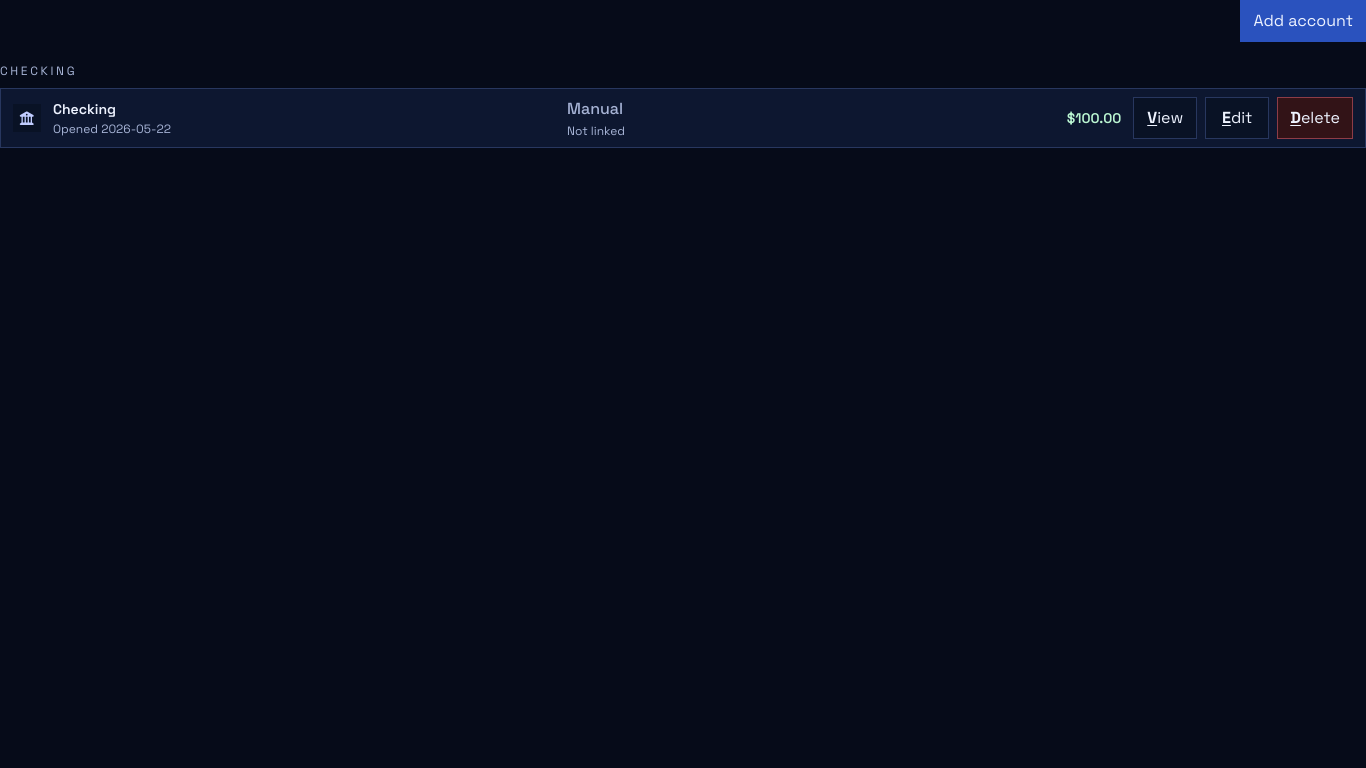
Test case: US2 account and transaction flows › optimistically closes and updates an existing account edit
Click the button named "Edit" at (1237,118), box [1205, 97, 1269, 139]
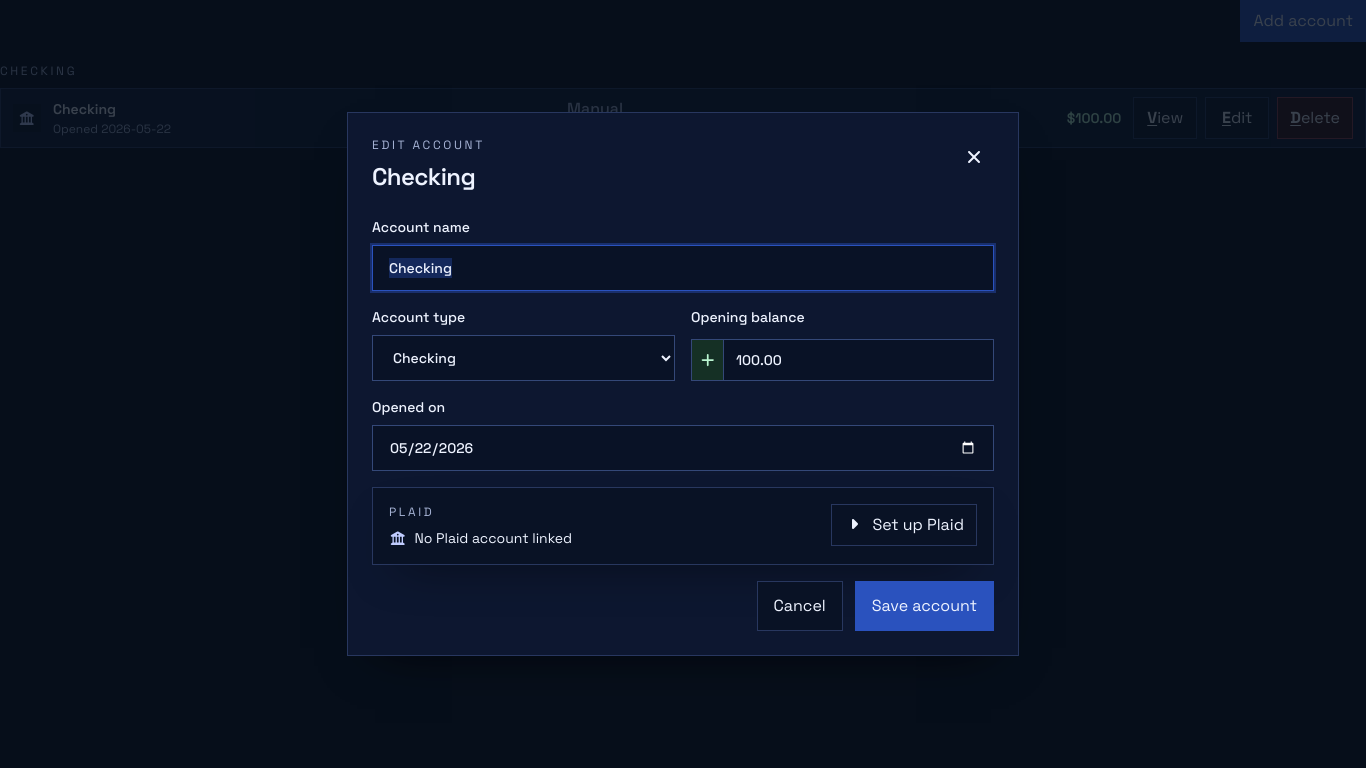
Replace the text in the field labelled "Account name" with "Everyday" at (683,268), box [372, 245, 994, 291]
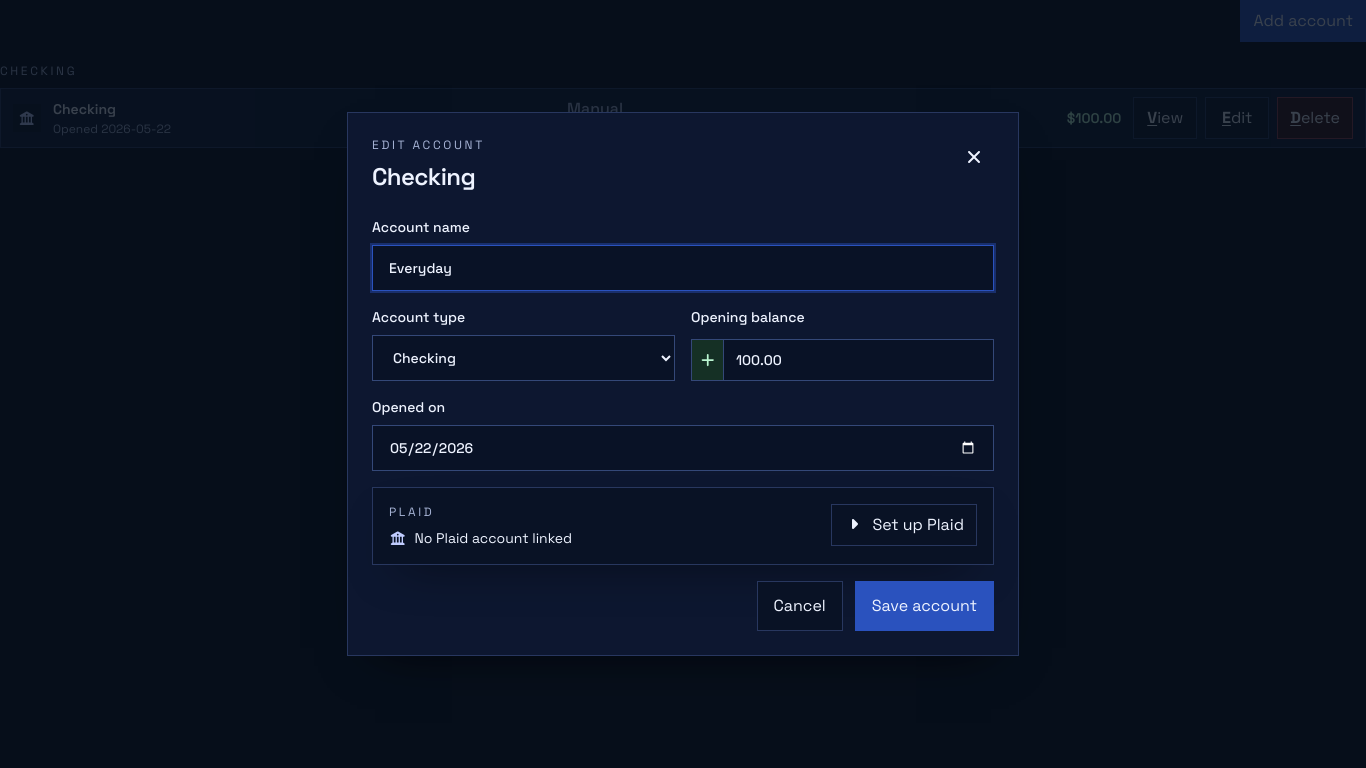
Click the button "Save account" at (924,606), box [855, 581, 994, 631]
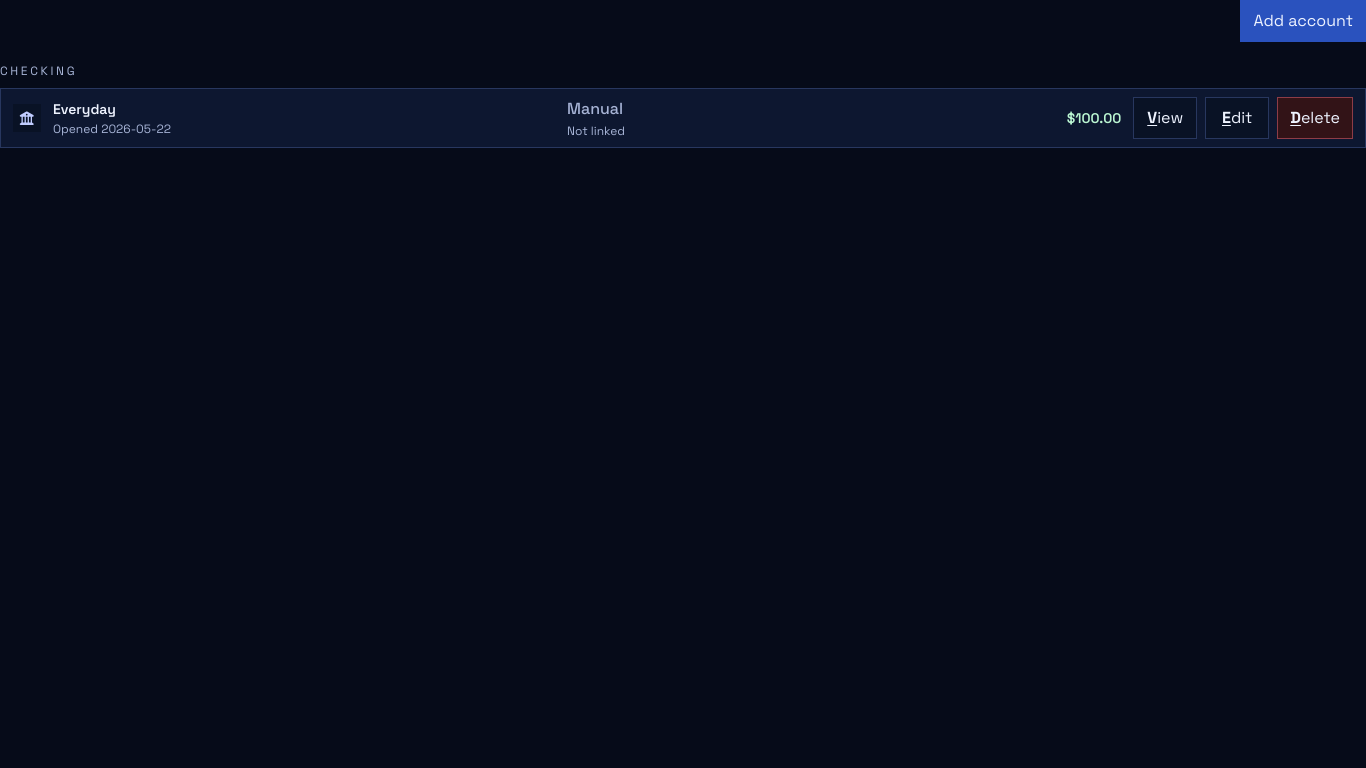
Now the list item "Everyday" is shown, box [0, 88, 1365, 148]
